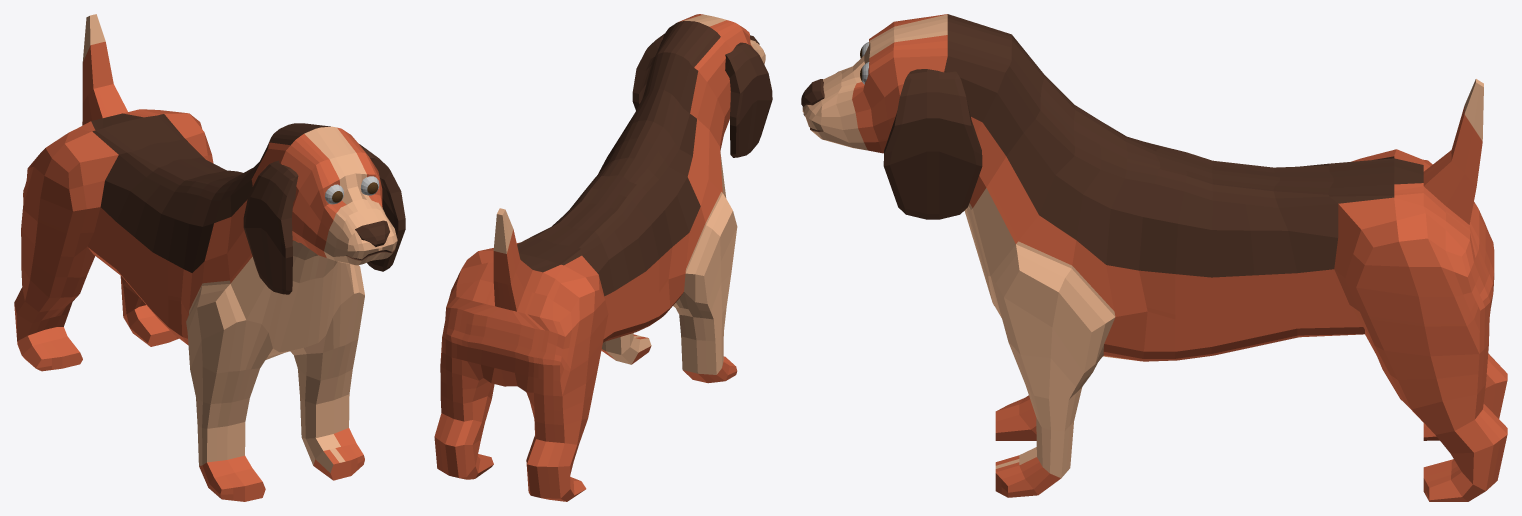
File: dog.fbx
The picture shows the model from 3 angles, left to right: view 1: azimuth 30°, elevation 25°; view 2: azimuth 150°, elevation 25°; view 3: azimuth 270°, elevation 25°; orthographic projection. The views are drawn at different scales.
Parts seen in each view (by area): view 1: Sphere.003; view 2: Sphere.003; view 3: Sphere.003.
Boxes of the visible parts, <box> form: Sphere.003: <box>14,14,405,501</box>; Sphere.003: <box>434,14,772,501</box>; Sphere.003: <box>801,14,1507,501</box>.
Bounding box in the file's own units: 134 × 312 × 453.
